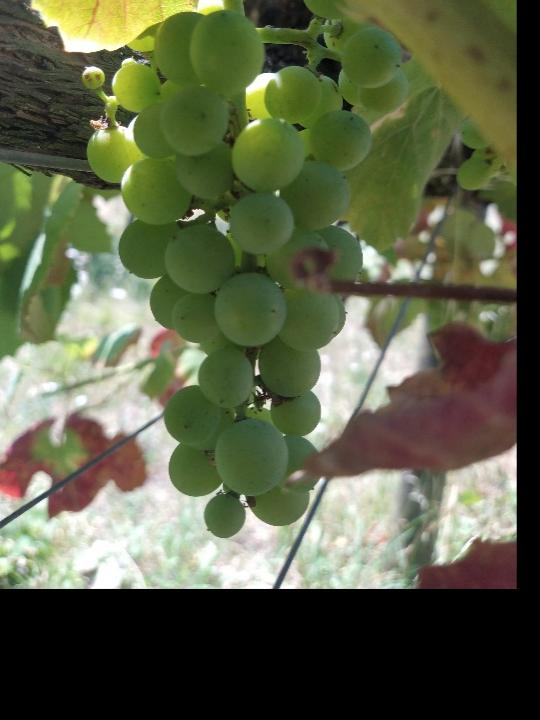grape: (79, 0, 408, 543)
